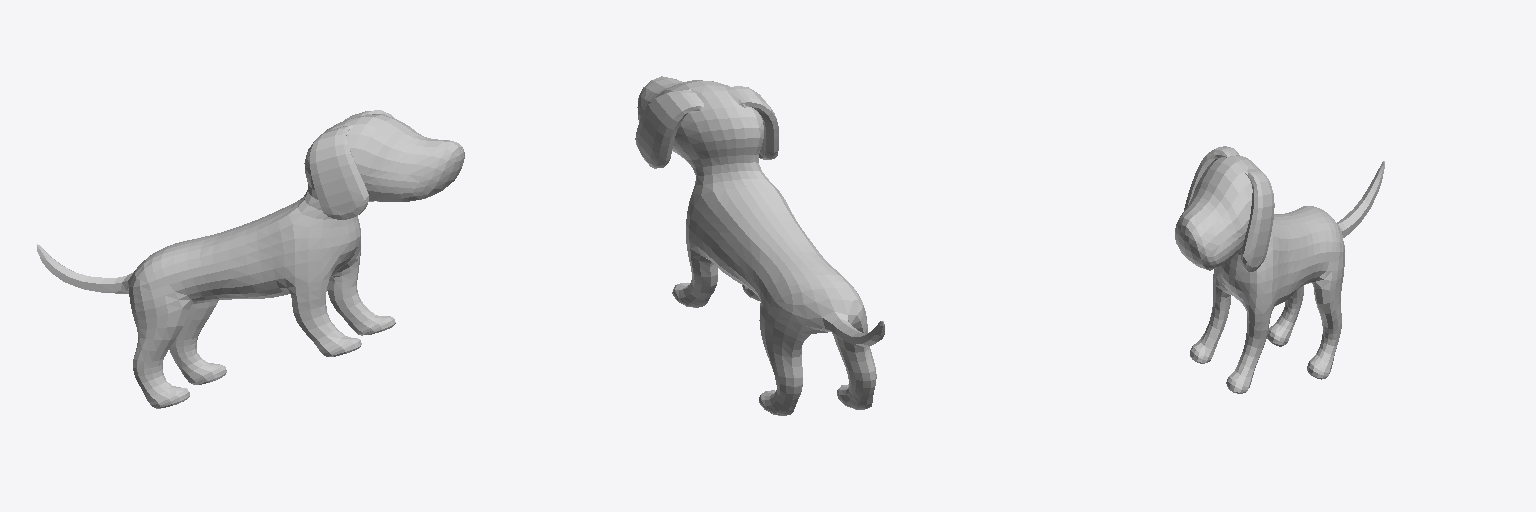
Rendered from DOG.obj.
3 views of the same model, side by side, from view 1: azimuth 30°, elevation 25°; view 2: azimuth 150°, elevation 25°; view 3: azimuth 270°, elevation 25° (orthographic).
Parts seen in each view (by area): view 1: root; view 2: root; view 3: root.
Boxes of the visible parts, x1,y1,x2,y2 form: root: [37, 110, 464, 408]; root: [635, 76, 884, 415]; root: [1175, 146, 1384, 393].
Bounding box in the file's own units: 10.88 × 8.32 × 5.88.